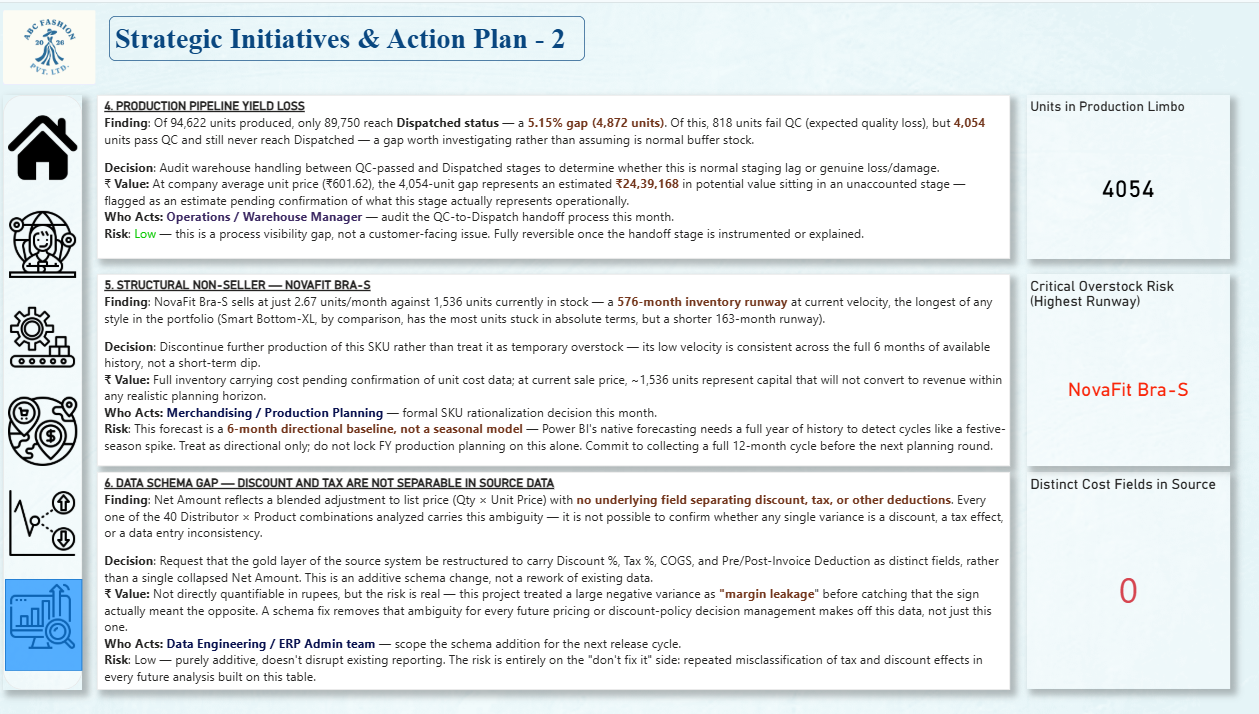

The page's visual inventory and layout, read from the dashboard file:
{"tool":"powerbi","page":{"name":"Strategic Initiatives & Action Plan - 2","canvas":[1920,1080],"ordinal":6},"visuals":[{"type":"textbox","box":[169.9,19.5,720.7,68.4],"z":0},{"type":"image","box":[9.2,0,140.2,134.6],"z":1000},{"type":"group","id":"g1","title":"Group 1","box":[9.8,138.7,1857.1,901],"z":4000},{"type":"shape","box":[9.8,138.7,120,901],"z":4000,"group":"g1"},{"type":"group","id":"g2","title":"Navigation img","box":[13.6,159.7,113.1,825.5],"z":5000,"group":"g1"},{"type":"image","box":[17.8,311.4,104.7,106.8],"z":5000,"group":"g2"},{"type":"textbox","title":"Distinct Cost Fields in Source","box":[1560.2,710.9,307.6,328.1],"z":5000},{"type":"image","box":[17.8,159.7,104.7,117.3],"z":6000,"group":"g2"},{"type":"shape","box":[13.2,871.5,117,139.5],"z":6000,"group":"g1"},{"type":"card","title":"Units in Production Limbo","fields":{"Values":["Measures_Table.Units in Production Limbo"]},"box":[1560.3,138.7,306.7,247.6],"z":7000,"group":"g1"},{"type":"image","box":[17.8,872.1,104.7,113.1],"z":7000,"group":"g2"},{"type":"textbox","title":"4. PRODUCTION PIPELINE YIELD LOSS","box":[152.7,138.7,1382.9,247.6],"z":8000,"group":"g1"},{"type":"textbox","title":"5. STRUCTURAL NON-SELLER — NOVAFIT BRA-S","box":[152.7,409.2,1382.9,291.4],"z":9000,"group":"g1"},{"type":"card","title":"Critical Overstock Risk (Highest Runway)","fields":{"Values":["Min(Dim_Style.Style)"]},"box":[1560.3,409.2,306.7,291.4],"z":10000,"group":"g1"},{"type":"textbox","title":"6. DATA SCHEMA GAP — DISCOUNT AND TAX ARE NOT SEPARABLE IN SOURCE DATA","box":[152.7,710.1,1382.9,329.5],"z":11000,"group":"g1"},{"type":"image","box":[17.8,452.6,104.7,106.8],"z":19000,"group":"g2"},{"type":"image","box":[17.8,593.8,104.7,106.8],"z":20000,"group":"g2"},{"type":"image","box":[13.6,735.1,113.1,102.6],"z":21000,"group":"g2"}]}

Visuals, with their boxes in screenshot pixels (x1, y1, x2, y2), scaled from the page's 1920x1080 canvas onto the 1259x714 screenshot:
textbox: <bbox>111, 13, 584, 58</bbox>
image: <bbox>6, 0, 98, 89</bbox>
"Group 1" group: <bbox>6, 92, 1224, 687</bbox>
shape: <bbox>6, 92, 85, 687</bbox>
"Navigation img" group: <bbox>9, 106, 83, 651</bbox>
image: <bbox>12, 206, 80, 276</bbox>
"Distinct Cost Fields in Source" textbox: <bbox>1023, 470, 1225, 687</bbox>
image: <bbox>12, 106, 80, 183</bbox>
shape: <bbox>9, 576, 85, 668</bbox>
"Units in Production Limbo" card: <bbox>1023, 92, 1224, 255</bbox>
image: <bbox>12, 577, 80, 651</bbox>
"4. PRODUCTION PIPELINE YIELD LOSS" textbox: <bbox>100, 92, 1007, 255</bbox>
"5. STRUCTURAL NON-SELLER — NOVAFIT BRA-S" textbox: <bbox>100, 271, 1007, 463</bbox>
"Critical Overstock Risk (Highest Runway)" card: <bbox>1023, 271, 1224, 463</bbox>
"6. DATA SCHEMA GAP — DISCOUNT AND TAX ARE NOT SEPARABLE IN SOURCE DATA" textbox: <bbox>100, 469, 1007, 687</bbox>
image: <bbox>12, 299, 80, 370</bbox>
image: <bbox>12, 393, 80, 463</bbox>
image: <bbox>9, 486, 83, 554</bbox>
